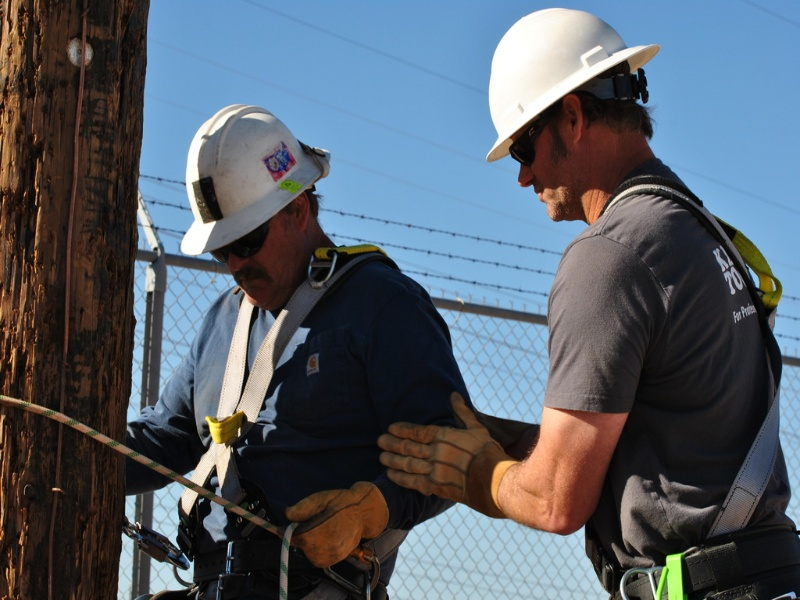Baret: (487, 7, 663, 153), (183, 103, 332, 253)
